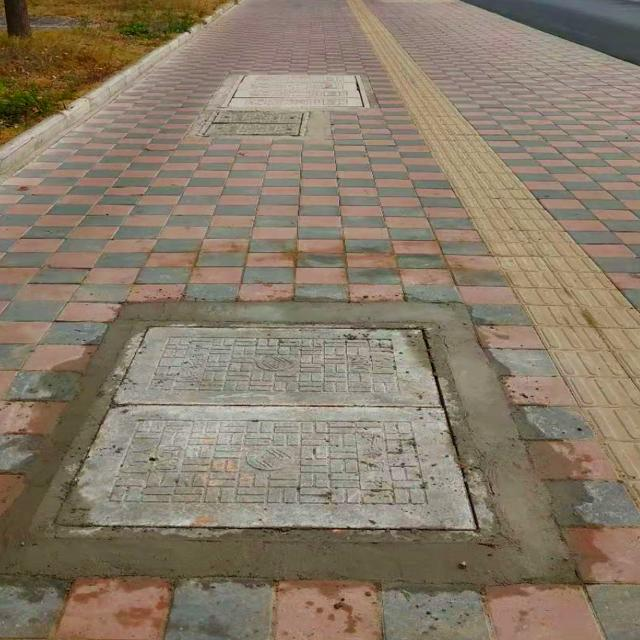good: (26, 321, 511, 541)
